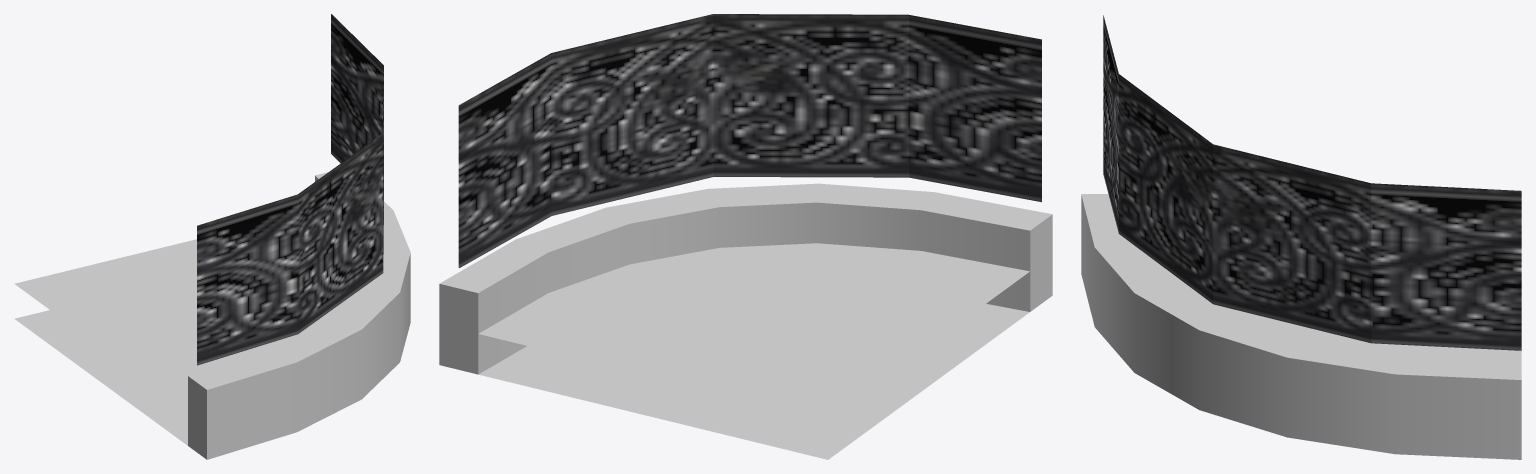
Rendered from mansion_upper_floor_corner_out.fbx.
3 renders of one model, left to right at view 1: azimuth 30°, elevation 25°; view 2: azimuth 150°, elevation 25°; view 3: azimuth 270°, elevation 25°, orthographic. The views are drawn at different scales.
Visible parts, largest first — view 1: mansion_upper_floor_corner_out; view 2: mansion_upper_floor_corner_out; view 3: mansion_upper_floor_corner_out.
Part boxes in pixels (x1,y1,x2,y2): mansion_upper_floor_corner_out: (14, 14, 410, 459); mansion_upper_floor_corner_out: (439, 14, 1052, 459); mansion_upper_floor_corner_out: (1081, 15, 1521, 459).
Size of the model in its own units: 200 by 130 by 200.
